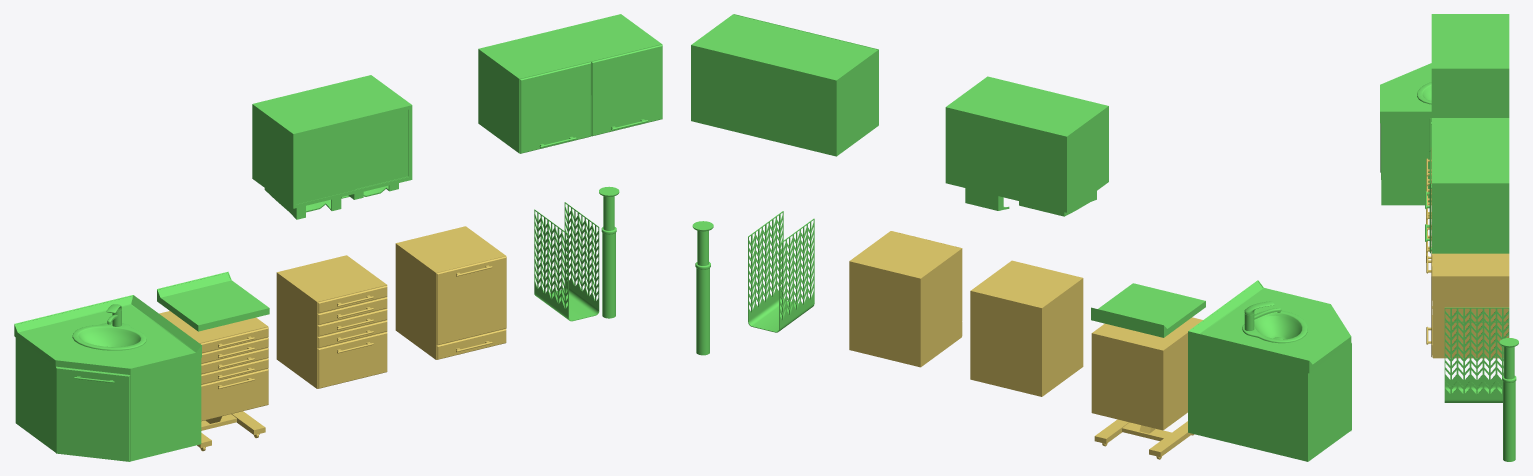
The model's file is Locker_2.fbx.
3 views of the same model, side by side, from view 1: azimuth 30°, elevation 25°; view 2: azimuth 150°, elevation 25°; view 3: azimuth 270°, elevation 25° (orthographic). The views are drawn at different scales.
Visible parts, largest first — view 1: Locker_4, Locker_Corner, Locker_5, Locker_3, Locker_2, Locker_1, Locker_Corner_door, Net, Locker_2_Door, Lockers_table, Support_1; view 2: Locker_Corner, Locker_4, Locker_5, Locker_3, Locker_2, Locker_1, Net, Lockers_table, Support_1; view 3: Locker_4, Locker_5, Locker_2, Locker_Corner, Net, Support_1, Support_2, Locker_2_Door, Locker_3, Locker_1.
Boxes of the visible parts, x1,y1,x2,y2 form: Locker_4: (478,14,662,153); Locker_Corner: (14,295,201,461); Locker_5: (252,75,412,219); Locker_3: (276,255,387,388); Locker_2: (395,226,506,359); Locker_1: (159,311,268,451); Locker_Corner_door: (56,366,130,461); Net: (534,202,599,321); Locker_2_Door: (436,256,506,345); Lockers_table: (157,271,269,331); Support_1: (601,227,616,318); Locker_Corner: (1188,280,1351,461); Locker_4: (691,14,878,156); Locker_5: (945,76,1108,216); Locker_3: (970,260,1083,396); Locker_2: (849,231,962,367); Locker_1: (1091,317,1202,459); Net: (748,211,814,332); Lockers_table: (1091,283,1205,337); Support_1: (695,262,710,355); Locker_4: (1425,118,1509,253); Locker_5: (1431,14,1509,117); Locker_2: (1426,253,1509,358); Locker_Corner: (1380,63,1431,205); Net: (1444,307,1509,402); Support_1: (1502,375,1516,461); Support_2: (1499,338,1518,379); Locker_2_Door: (1426,245,1432,343); Locker_3: (1426,191,1432,300); Locker_1: (1426,148,1431,213).
Bounding box in the file's own units: 510 × 240 × 107.
